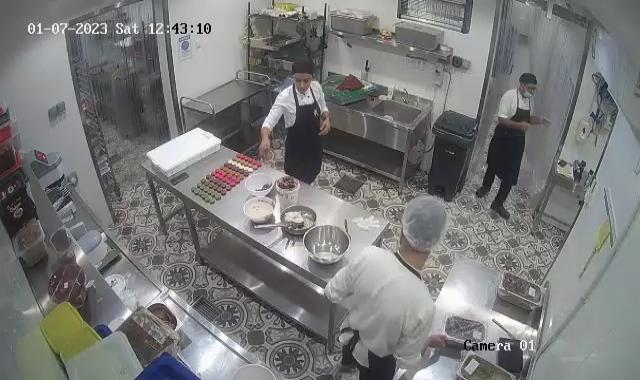hairnet: (397, 194, 449, 255)
no_hairnet: (290, 57, 314, 81), (517, 71, 538, 93)
